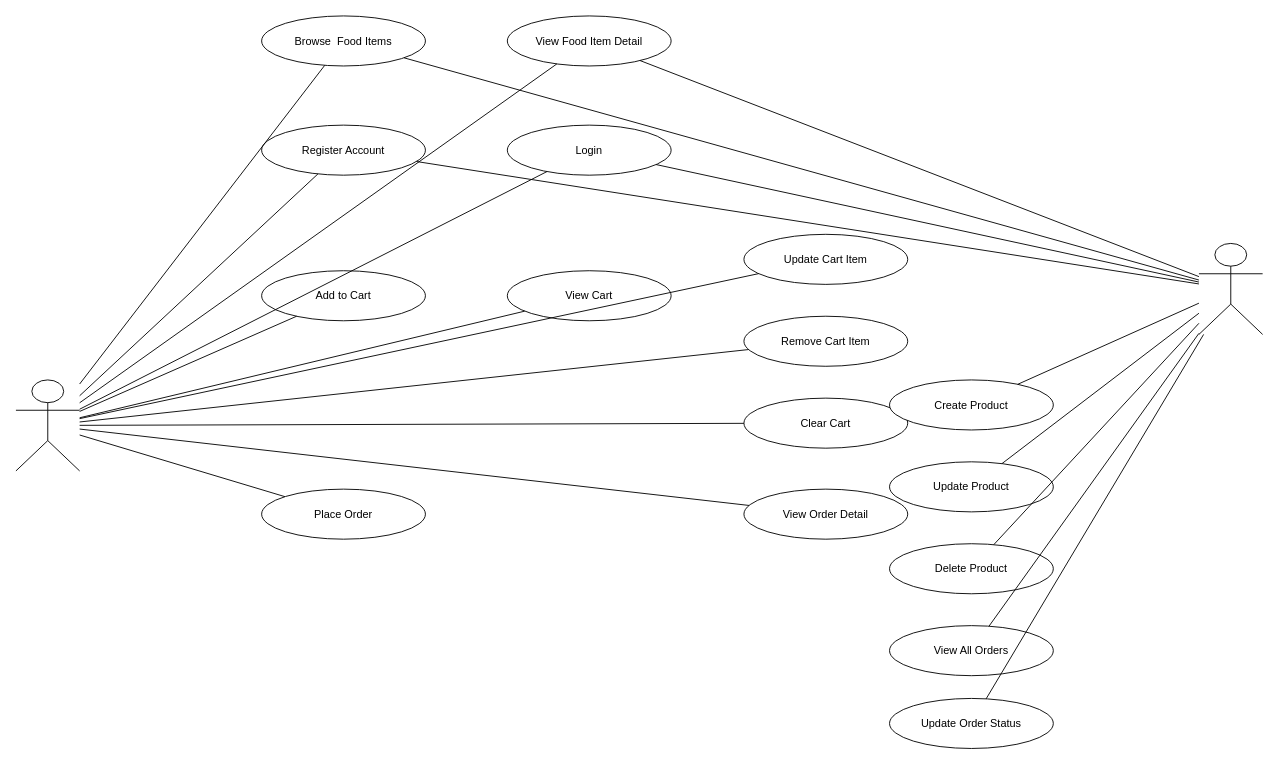
This 1279x764 diagram has some shape labels left out. Each missing label, with the centre of its shape:
Admin: the point at 1230,288
Customer: the point at 47,425
